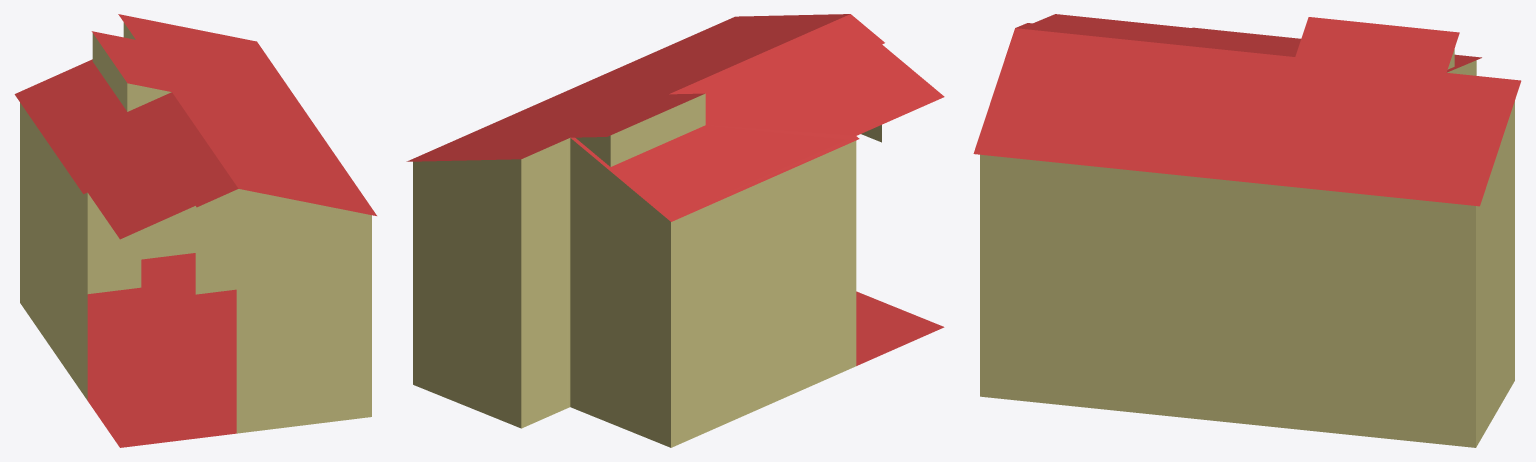
3 views of the same model, side by side, from view 1: azimuth 30°, elevation 25°; view 2: azimuth 150°, elevation 25°; view 3: azimuth 270°, elevation 25° (orthographic). The views are drawn at different scales.
Bounding box in the file's own units: 20.65 × 25.93 × 16.48.
